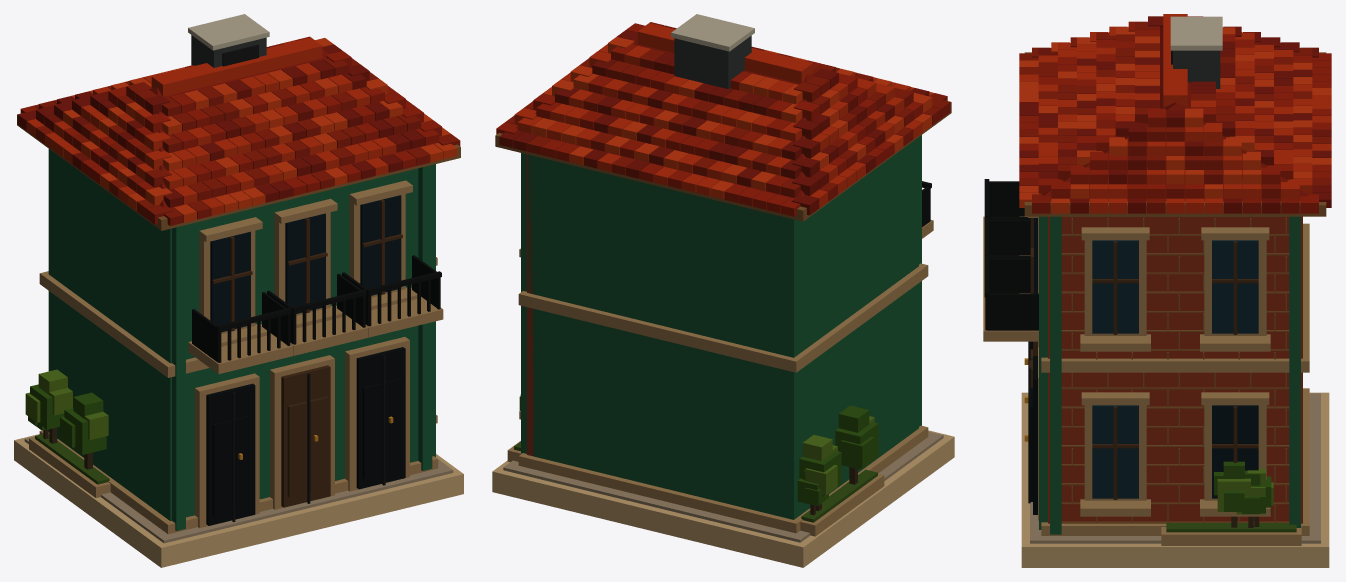
Rendered from SM_Mapa_004.fbx.
The picture shows the model from 3 angles, left to right: view 1: azimuth 30°, elevation 25°; view 2: azimuth 150°, elevation 25°; view 3: azimuth 270°, elevation 25°; orthographic projection. The views are drawn at different scales.
Parts seen in each view (by area): view 1: SM_Mapa_004; view 2: SM_Mapa_004; view 3: SM_Mapa_004.
Part boxes in pixels (x1,y1,x2,y2): SM_Mapa_004: (14,14,463,567); SM_Mapa_004: (492,14,954,567); SM_Mapa_004: (983,14,1331,567).
Bounding box in the file's own units: 8 × 7.32 × 10.65.
